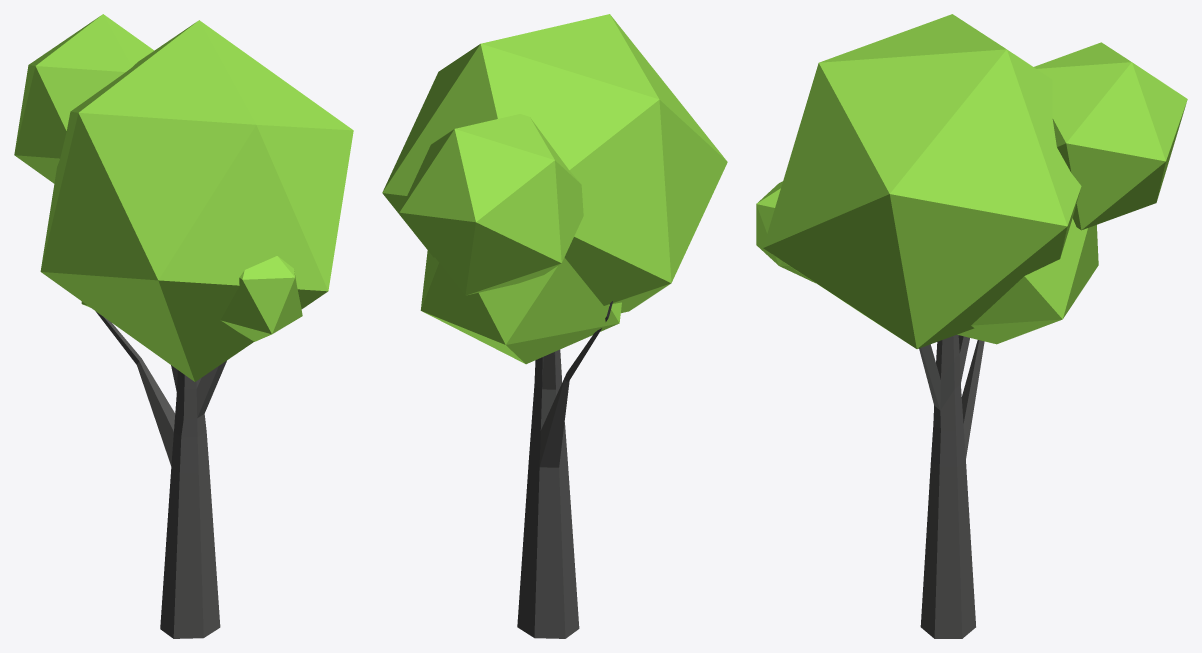
File: Tree1.fbx
The picture shows the model from 3 angles, left to right: view 1: azimuth 30°, elevation 25°; view 2: azimuth 150°, elevation 25°; view 3: azimuth 270°, elevation 25°; orthographic projection. The views are drawn at different scales.
Parts seen in each view (by area): view 1: Icosphere.015, Cylinder.002, Icosphere.019, Icosphere.017; view 2: Icosphere.015, Icosphere.019, Cylinder.002, Icosphere.018; view 3: Icosphere.015, Icosphere.019, Cylinder.002, Icosphere.018, Icosphere.017.
Boxes of the visible parts, left/top/right/bottom form: Icosphere.015: left=40, top=20, right=353, bottom=381; Cylinder.002: left=95, top=311, right=226, bottom=638; Icosphere.019: left=14, top=14, right=153, bottom=183; Icosphere.017: left=220, top=256, right=302, bottom=341; Icosphere.015: left=382, top=14, right=727, bottom=313; Icosphere.019: left=399, top=114, right=583, bottom=295; Cylinder.002: left=517, top=301, right=612, bottom=638; Icosphere.018: left=420, top=250, right=621, bottom=364; Icosphere.015: left=763, top=14, right=1081, bottom=348; Icosphere.019: left=1034, top=42, right=1187, bottom=230; Cylinder.002: left=919, top=335, right=984, bottom=638; Icosphere.018: left=957, top=218, right=1098, bottom=344; Icosphere.017: left=756, top=181, right=815, bottom=283.
Size of the model in its own units: 2041 by 4184 by 2742.
